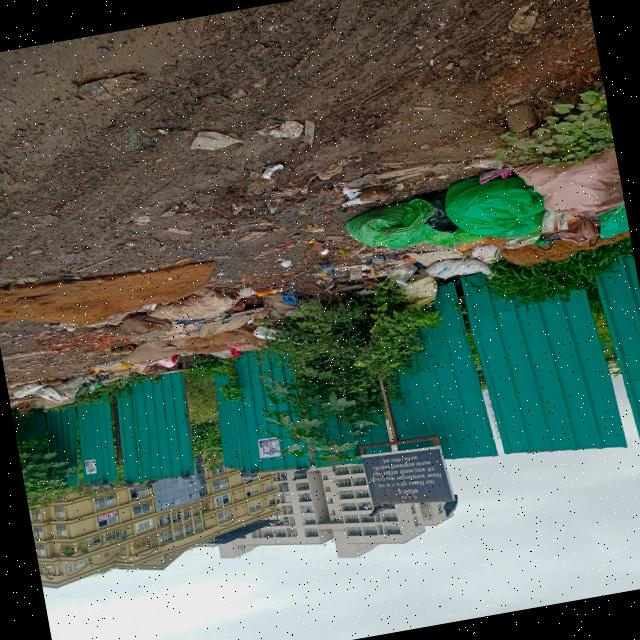garbage: (328, 160, 636, 317), (90, 279, 300, 386), (7, 371, 97, 417)
